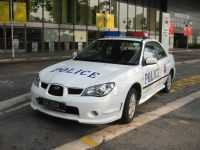Police Car: (41, 18, 182, 136)
